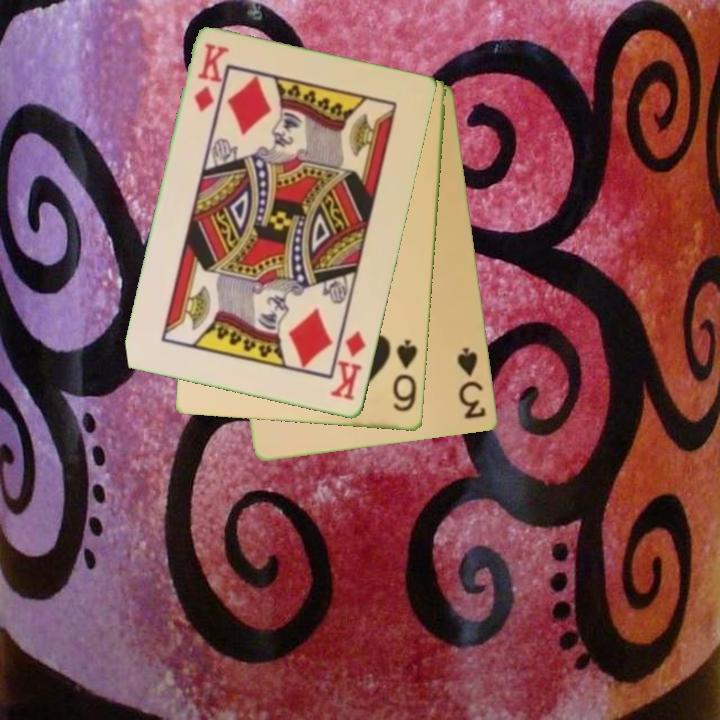3s: (454, 344, 490, 423)
6s: (389, 337, 421, 415)
Kd: (327, 327, 369, 404), (191, 40, 231, 116)
